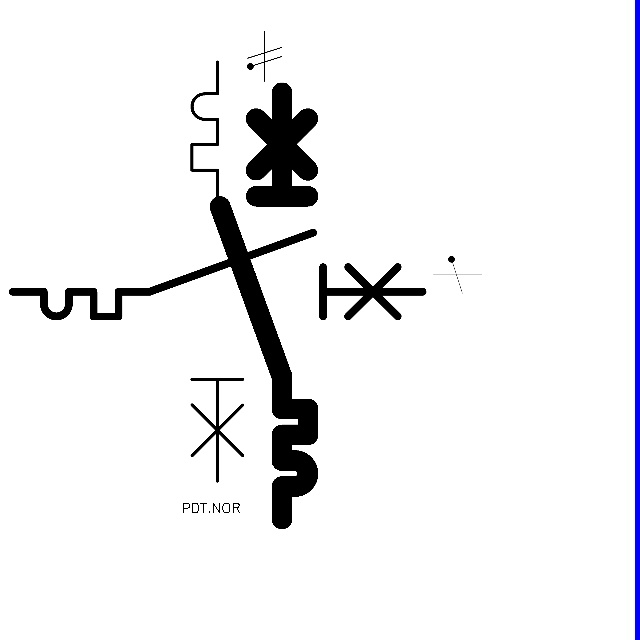interruptor_termomagnetico: (209, 81, 319, 529), (181, 51, 289, 491), (2, 222, 433, 327)
